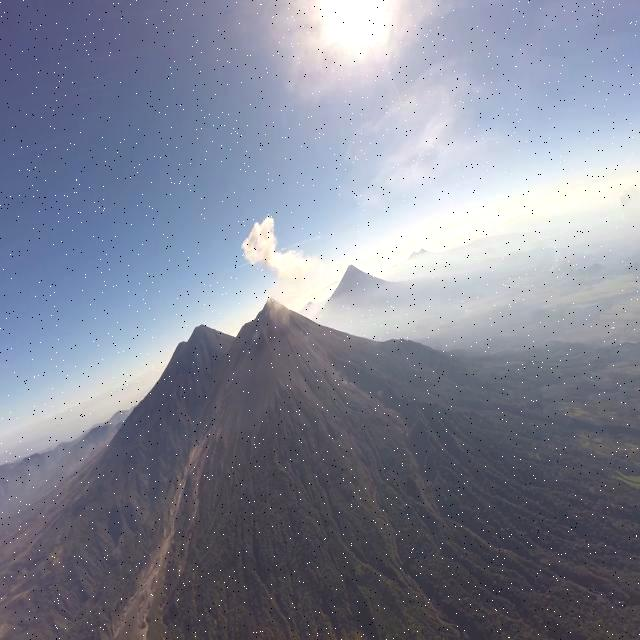Plume: (243, 214, 314, 284)
Summit: (256, 292, 292, 323)
